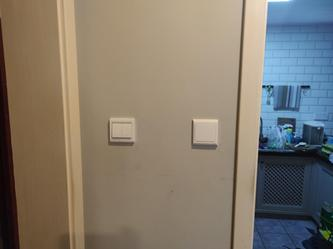switch: (190, 116, 221, 148), (108, 116, 139, 140)
